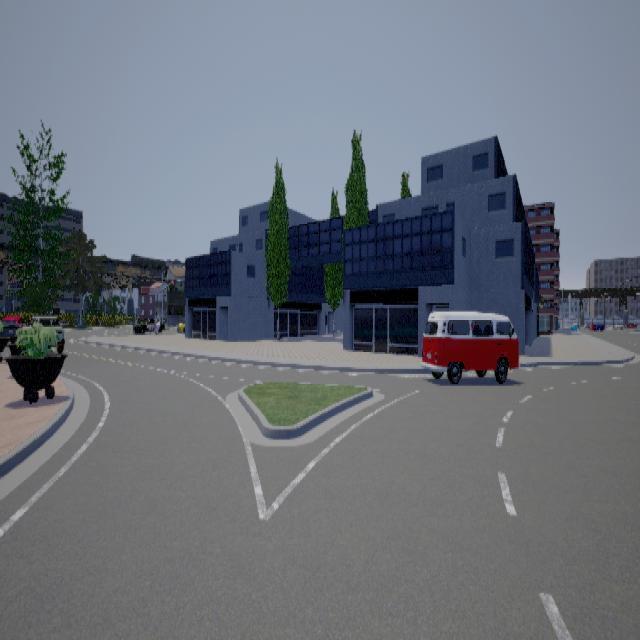vehicle: (422, 310, 521, 382), (1, 312, 66, 352)
